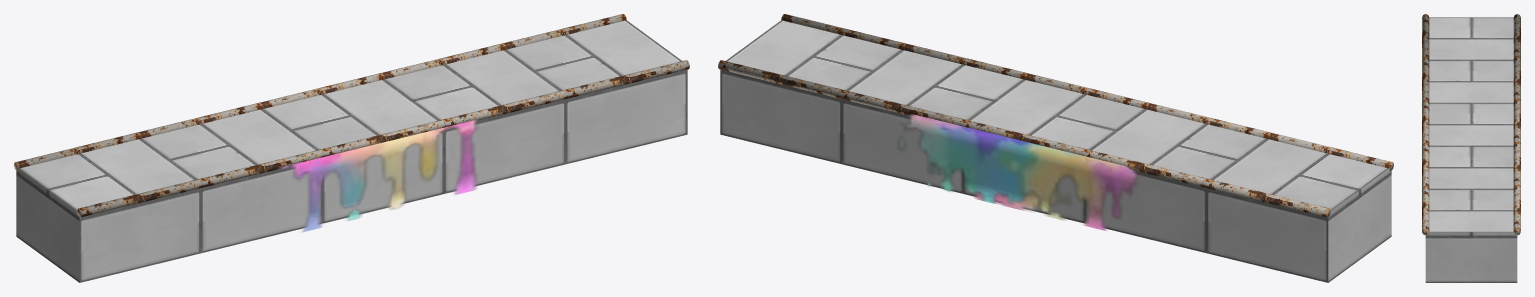
The model's file is Plat_Ledge.glb.
The picture shows the model from 3 angles, left to right: view 1: azimuth 30°, elevation 25°; view 2: azimuth 150°, elevation 25°; view 3: azimuth 270°, elevation 25°; orthographic projection. The views are drawn at different scales.
Visible parts, largest first — view 1: Plat_Ledge_Body, Plat_Ledge_Angle-1, Plat_Ledge_Paint; view 2: Plat_Ledge_Body, Plat_Ledge_Paint, Plat_Ledge_Angle-1; view 3: Plat_Ledge_Body, Plat_Ledge_Angle-1.
Boxes of the visible parts, x1,y1,x2,y2 form: Plat_Ledge_Body: (16, 20, 687, 282); Plat_Ledge_Angle-1: (14, 14, 689, 217); Plat_Ledge_Paint: (280, 119, 478, 232); Plat_Ledge_Body: (720, 20, 1391, 282); Plat_Ledge_Paint: (896, 114, 1145, 230); Plat_Ledge_Angle-1: (718, 14, 1393, 217); Plat_Ledge_Body: (1425, 17, 1517, 282); Plat_Ledge_Angle-1: (1422, 14, 1520, 235).
Size of the model in its own units: 5 by 0.6151 by 0.9699.
Materials: 4 (4 with a texture image).
